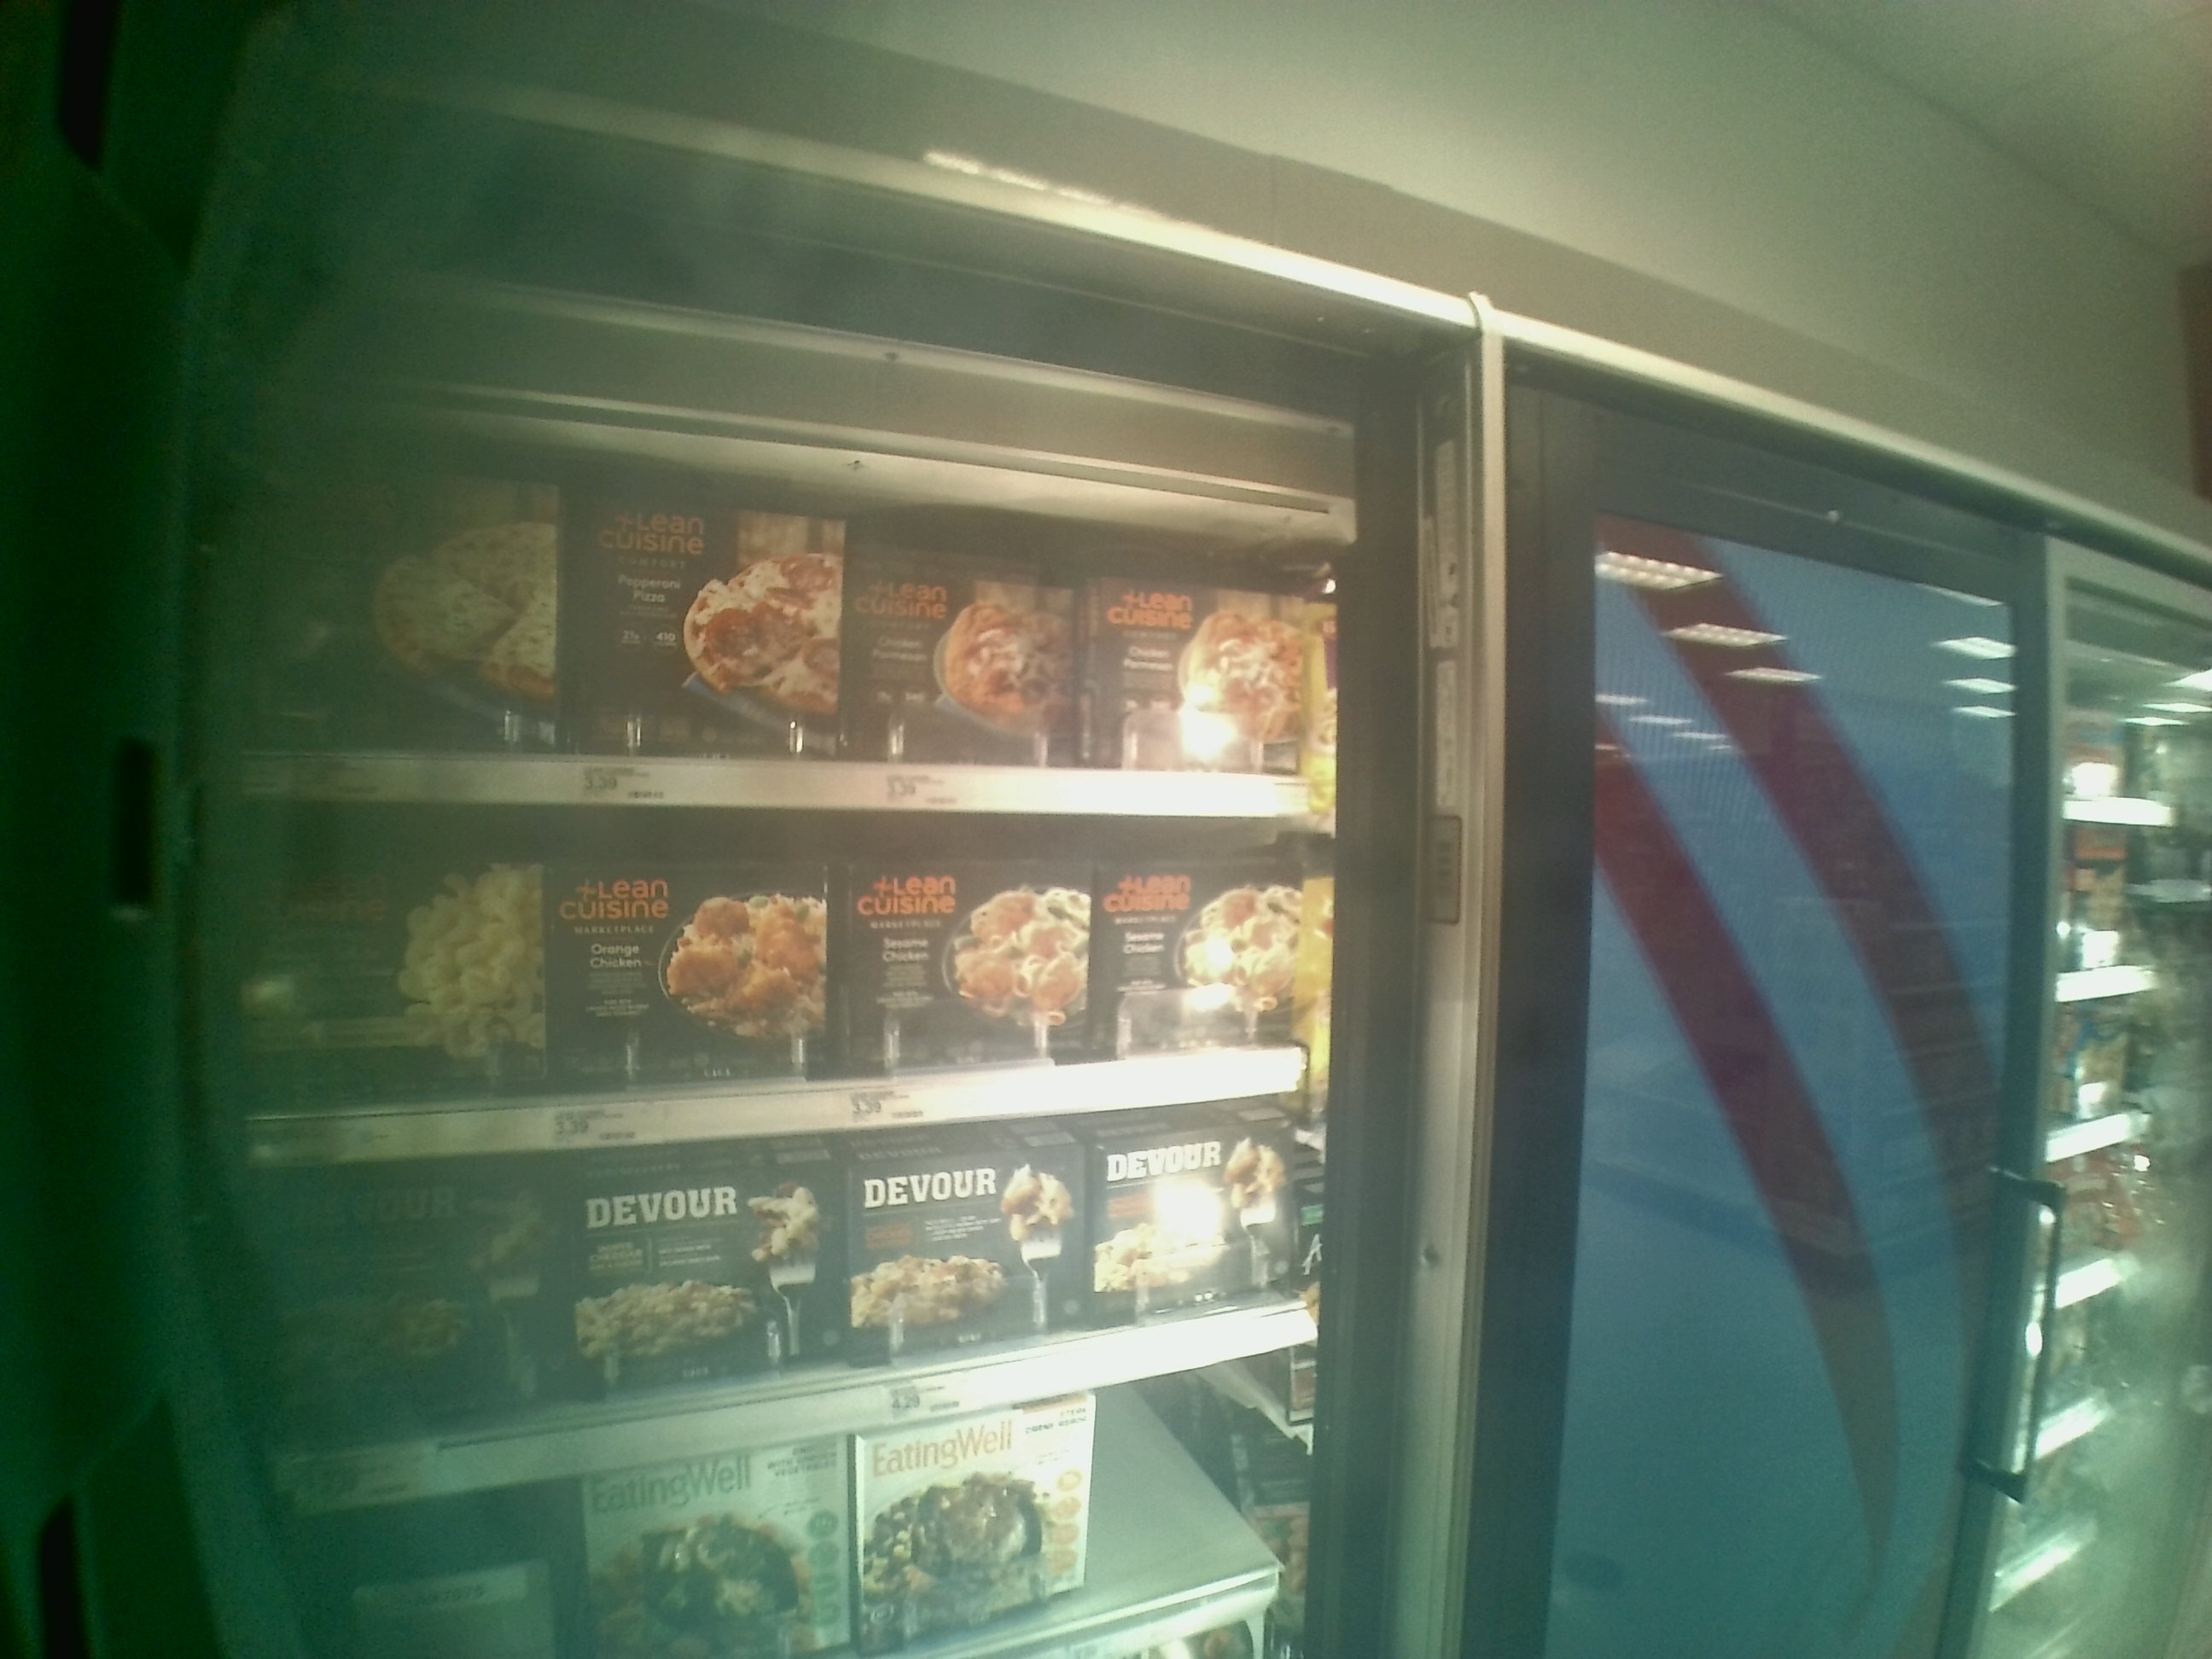pizza: (240, 847, 542, 1091), (294, 484, 550, 748), (571, 497, 838, 742), (286, 1185, 536, 1410), (563, 1441, 833, 1638), (859, 1406, 1080, 1643), (550, 873, 824, 1051), (571, 1182, 806, 1387), (841, 1162, 1097, 1351), (838, 868, 1090, 1051), (841, 563, 1066, 767), (1090, 570, 1296, 774), (1103, 857, 1305, 1028), (1099, 1141, 1308, 1297)
